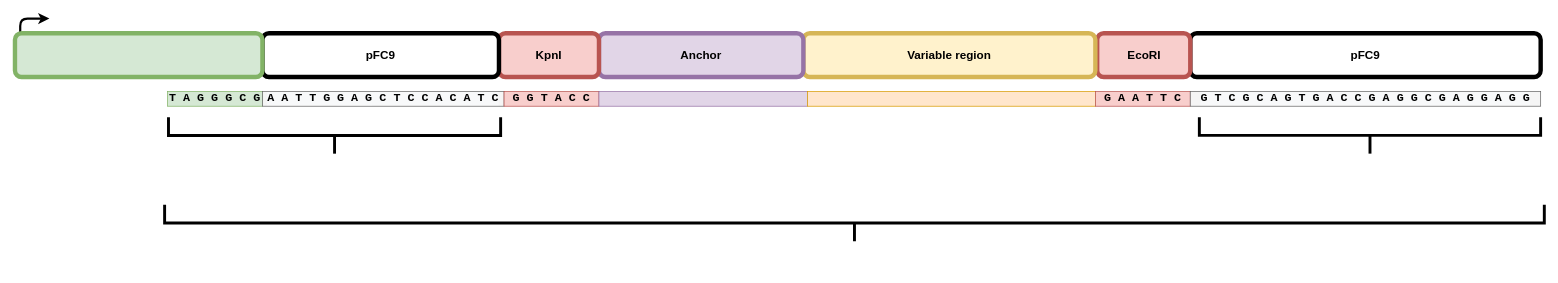
This 1558x283 diagram has some shape labels left out. The centre of each missing label's shape, as x and y in pixels:
3' homology arm: the point at 1370,135
5' homology arm: the point at 334,135
Complete insert: the point at 854,222
N N N N N N N N N N N N N N: the point at 702,98
N N N N N N N N N N N N N N N N N N N N: the point at 951,98
T7 Promotor: the point at 138,55
